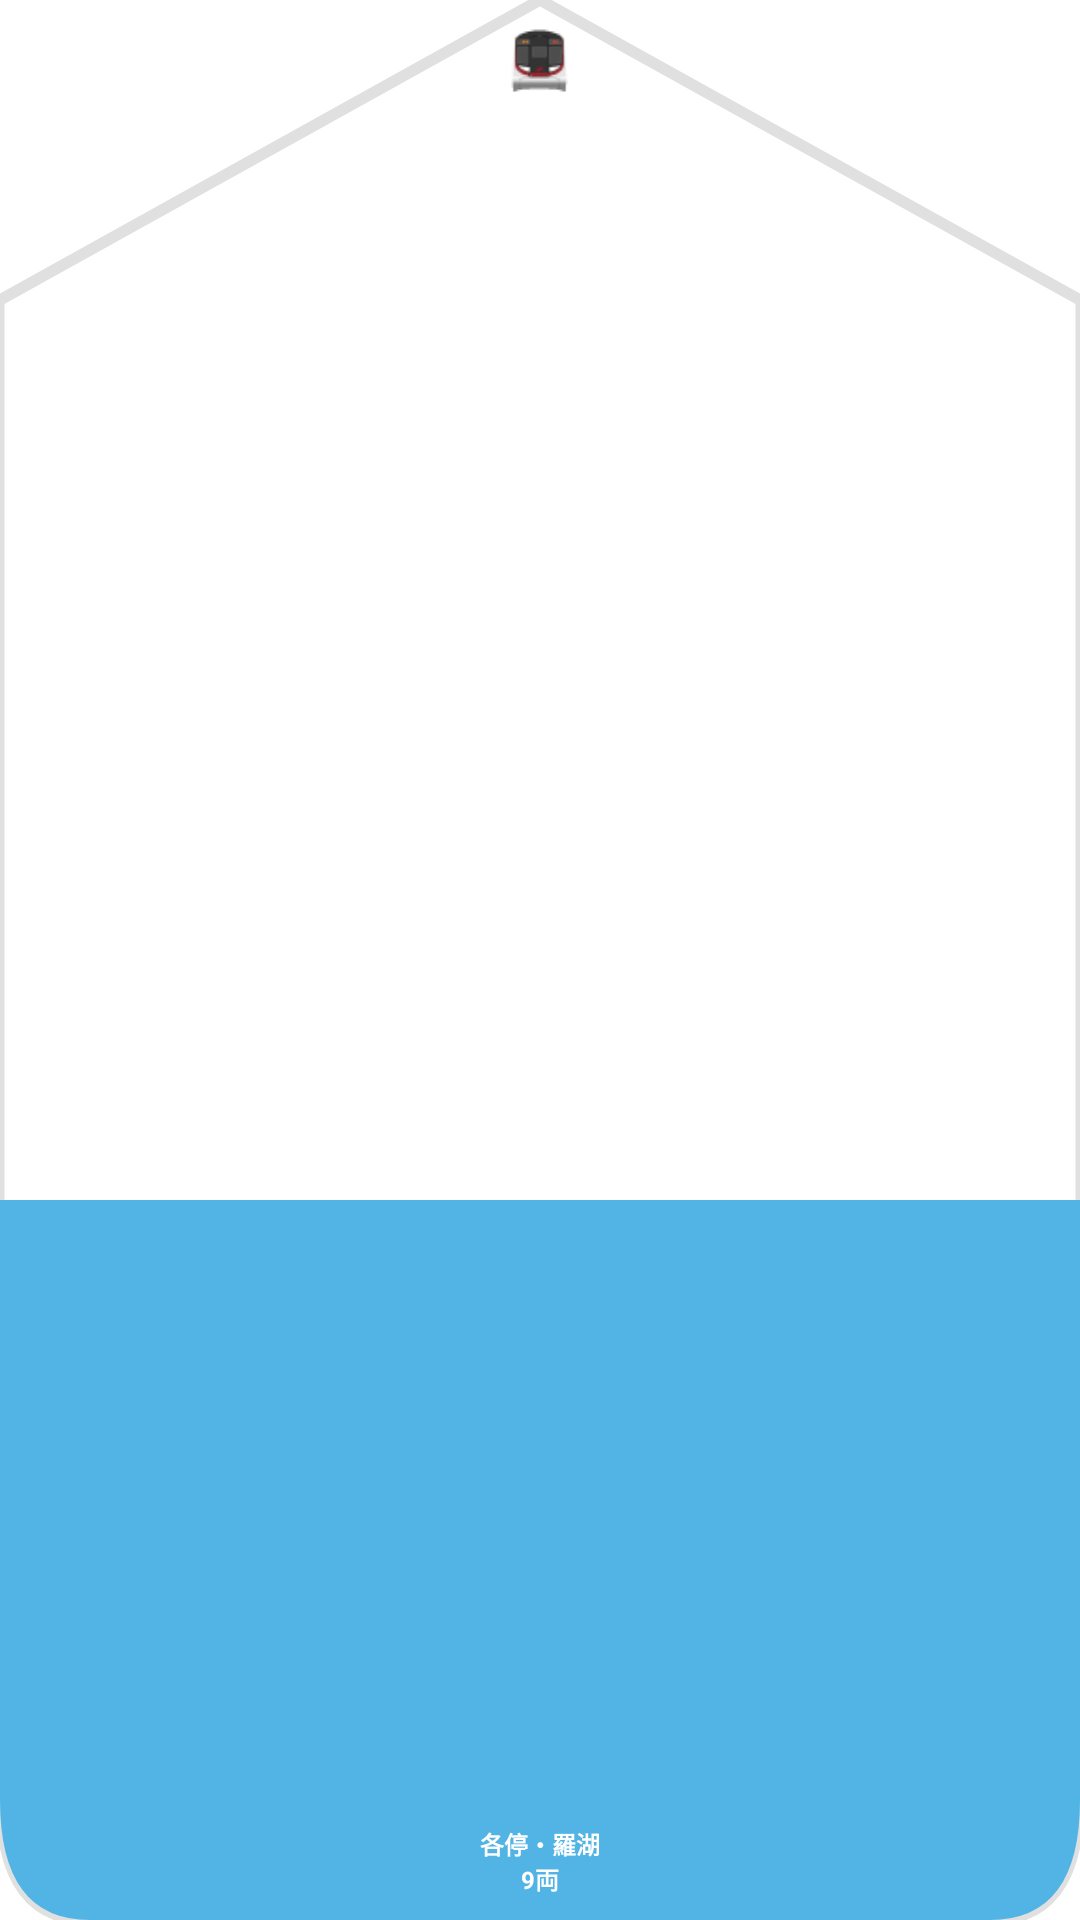

Locate icon controls on the screen. Image size 1080*1920, boxes as (x1, y1, x2, y2).
train: (512, 29, 567, 92)
